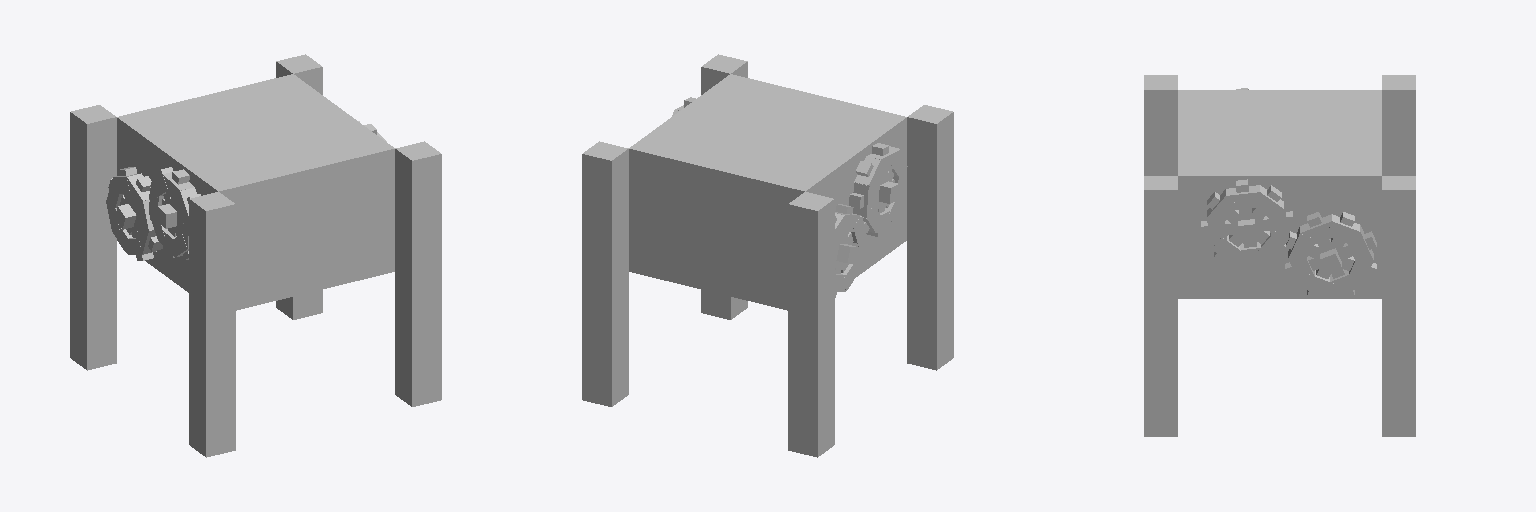
Rendered from item_extractor.obj.
3 renders of one model, left to right at view 1: azimuth 30°, elevation 25°; view 2: azimuth 150°, elevation 25°; view 3: azimuth 270°, elevation 25°, orthographic.
Visible parts, largest first — view 1: body, legs; view 2: body, legs; view 3: body, legs.
Part boxes in pixels (x1,y1,x2,y2): body: (106,74,394,310); legs: (70,54,441,457); body: (629,74,907,310); legs: (582,54,953,457); body: (1178,88,1381,298); legs: (1144,75,1415,436).
Size of the model in its own units: 1 by 1 by 1.